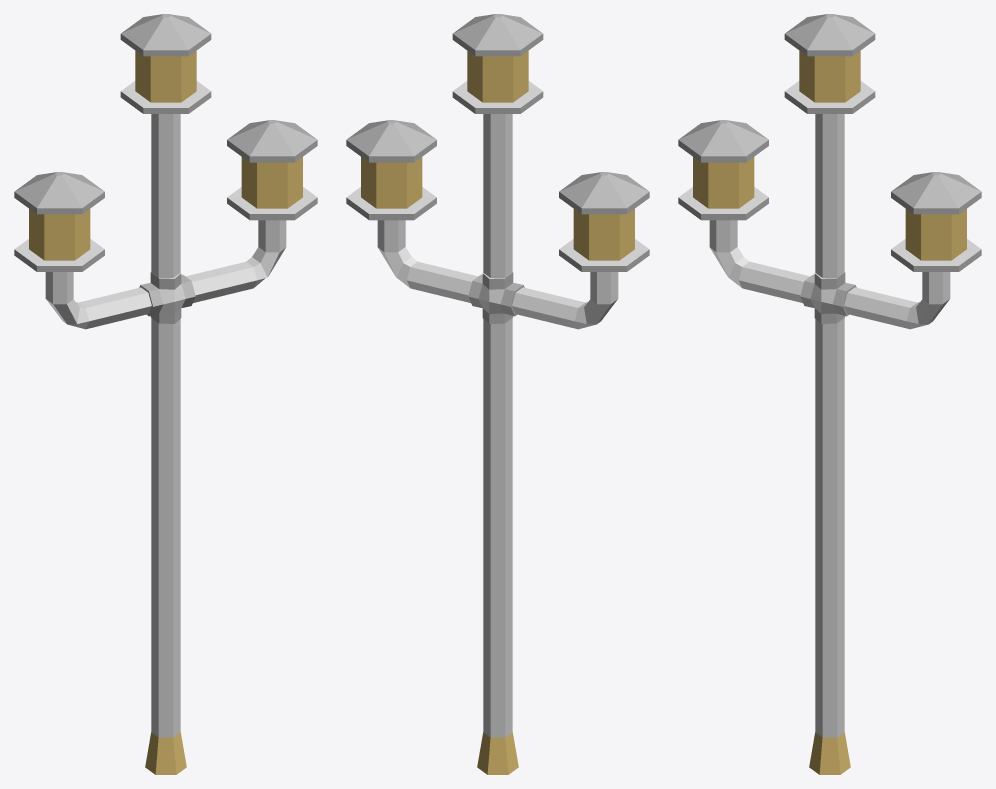
The model's file is P_Lamp .fbx.
3 renders of one model, left to right at view 1: azimuth 30°, elevation 25°; view 2: azimuth 150°, elevation 25°; view 3: azimuth 330°, elevation 25°, orthographic.
Parts seen in each view (by area): view 1: B_Lamp_01; view 2: B_Lamp_01; view 3: B_Lamp_01.
Boxes of the visible parts, box(x1,y1,x2,y2) form: B_Lamp_01: box(14, 14, 317, 774); B_Lamp_01: box(346, 14, 649, 774); B_Lamp_01: box(678, 14, 981, 774).
Size of the model in its own units: 183 by 470 by 51.3.
